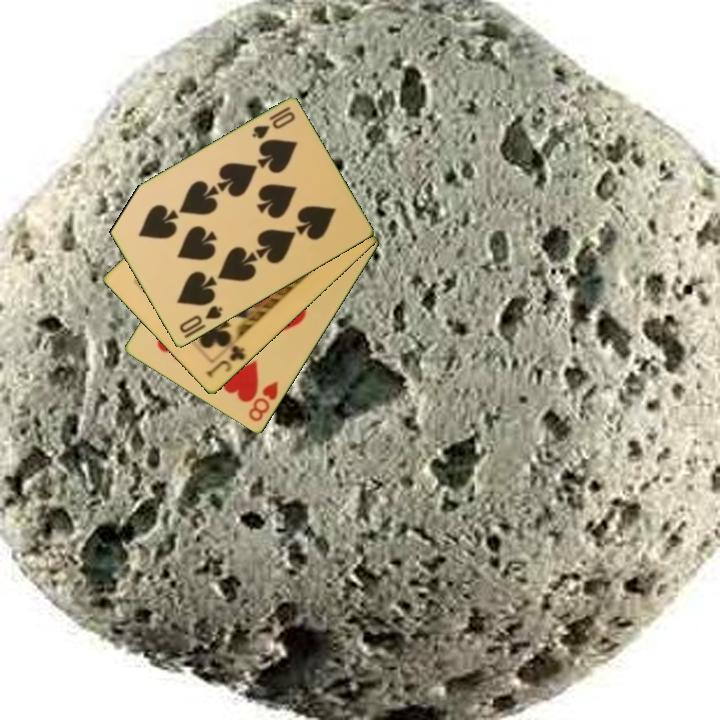10s: (248, 103, 298, 142), (176, 302, 225, 336)
8h: (245, 378, 281, 425)
Jc: (203, 342, 248, 381)
